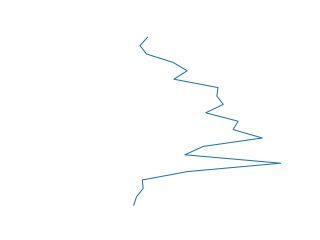floodSwamp: (129, 36, 293, 208)
